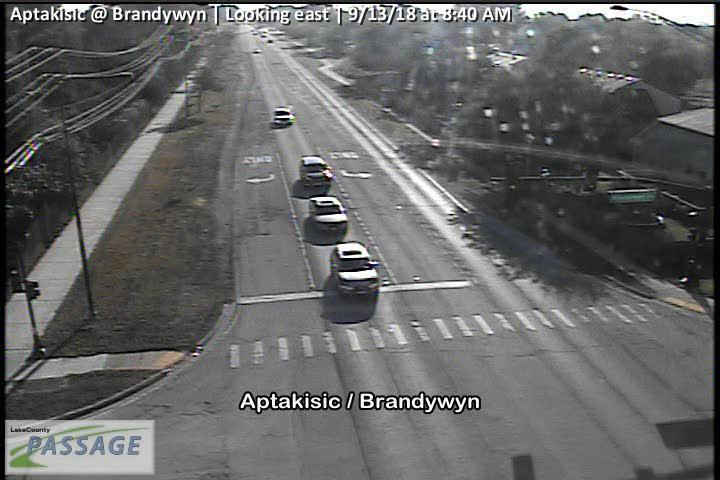Sedan: (331, 242, 380, 297), (310, 197, 348, 232), (300, 154, 332, 188), (271, 106, 294, 127)
